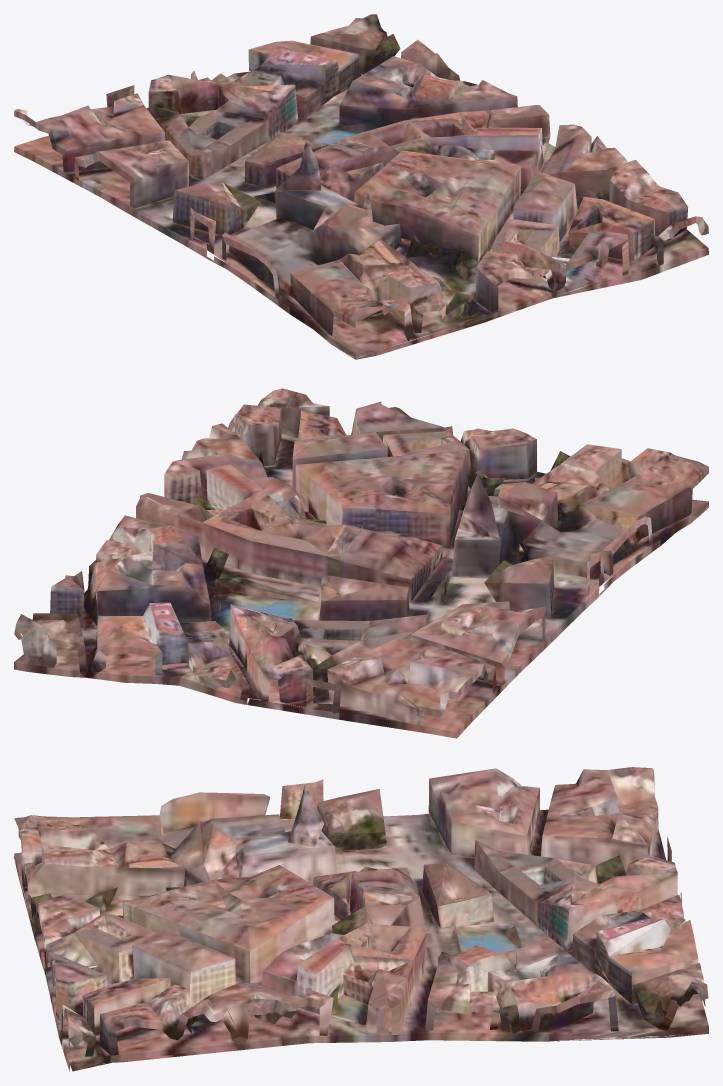
The picture shows the model from 3 angles, top to bottom: view 1: azimuth 30°, elevation 25°; view 2: azimuth 150°, elevation 25°; view 3: azimuth 270°, elevation 25°; orthographic projection. The views are drawn at different scales.
Parts seen in each view (by area): view 1: Mesh_0; view 2: Mesh_0; view 3: Mesh_0.
Part boxes in pixels (box(x1,y1,x2,y2)): Mesh_0: box(14, 14, 708, 359); Mesh_0: box(14, 388, 708, 738); Mesh_0: box(14, 767, 708, 1071).
Bounding box in the file's own units: 266 × 68.04 × 330.
Materials: 2 (2 with a texture image).
